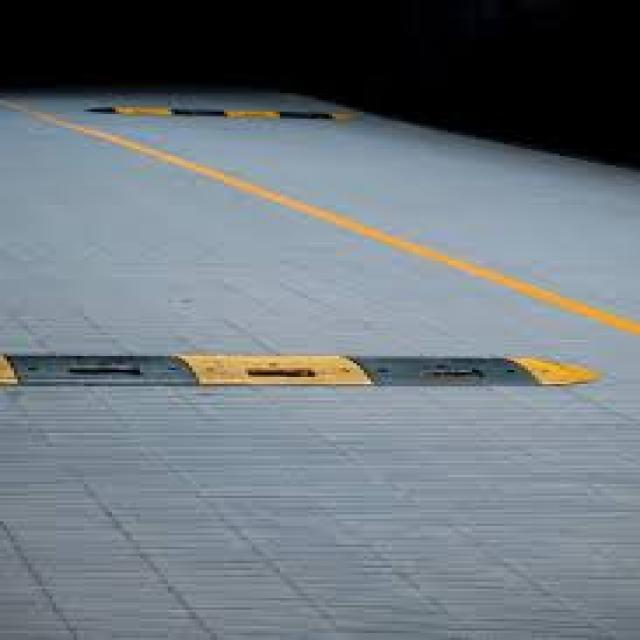Marked Bump: (19, 337, 588, 403), (83, 93, 355, 132)
